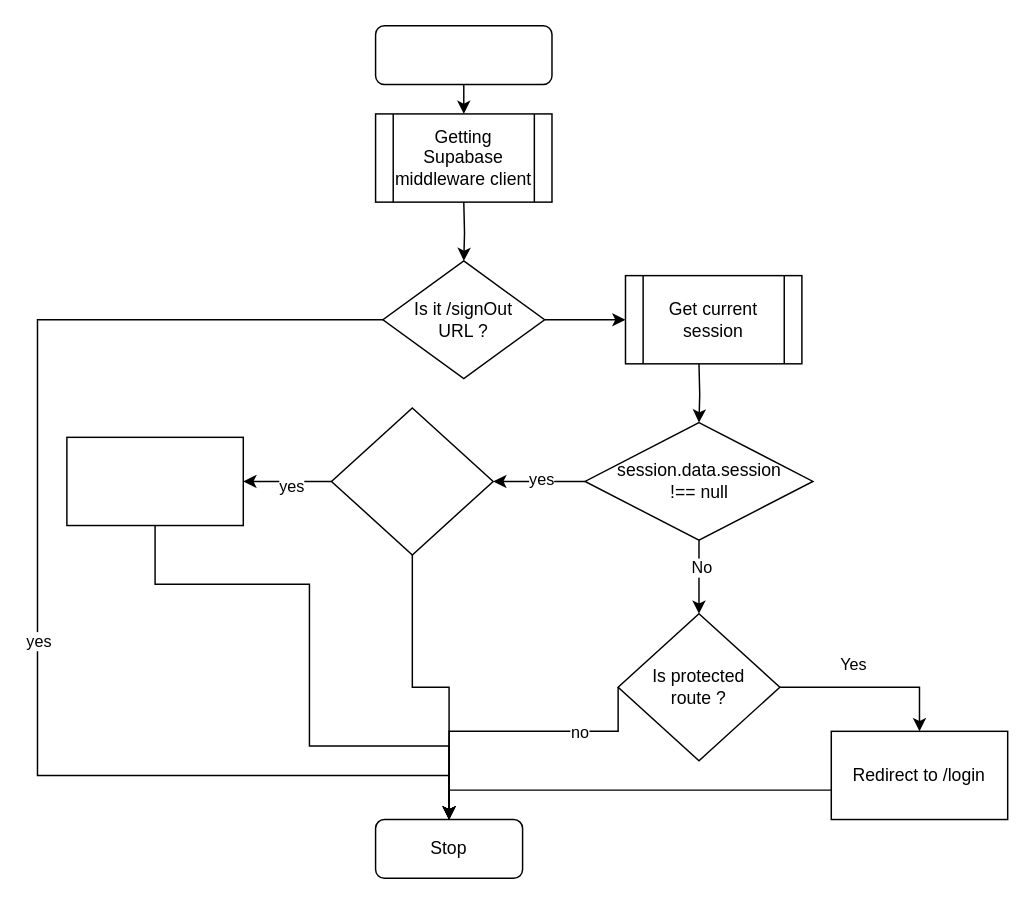
Some shapes in this 1033 by 904 pixel diagram are drawn without their labels. Here are the shapes that lost their labels. From the top down, the centre of each, then its label:
point (463, 54): Start
point (154, 481): Redirect to /home
point (411, 480): Is opposite to protected route route ?
